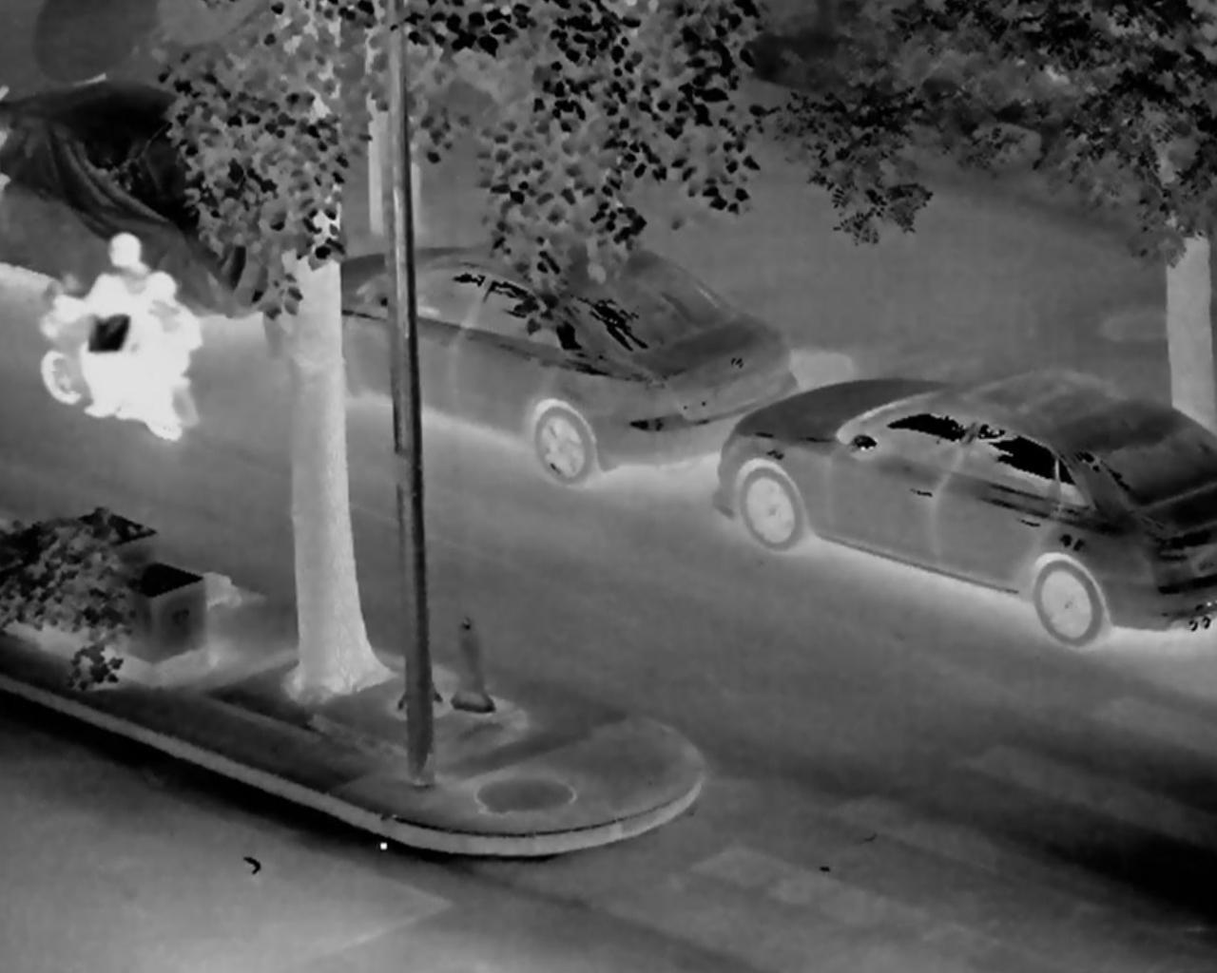person: (53, 224, 159, 421), (102, 268, 197, 429)
